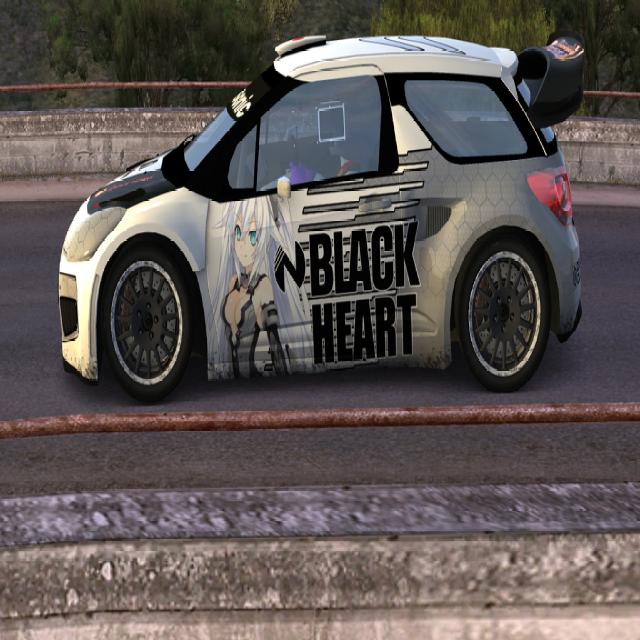other: (65, 31, 594, 400)
